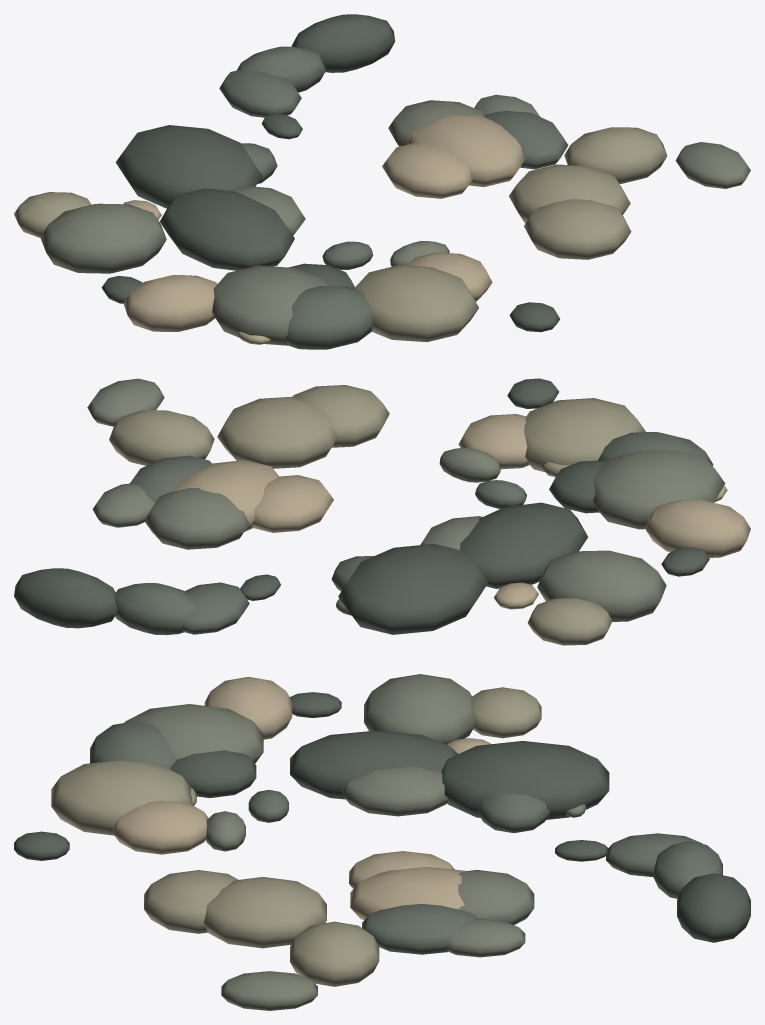
Rendered from gravel.meshopt.glb.
3 renders of one model, top to bottom at view 1: azimuth 30°, elevation 25°; view 2: azimuth 150°, elevation 25°; view 3: azimuth 270°, elevation 25°, orthographic. The views are drawn at different scales.
Parts seen in each view (by area): view 1: gravel; view 2: gravel; view 3: gravel.
Boxes of the visible parts, bbox=[...] form: gravel: bbox=[14, 14, 750, 349]; gravel: bbox=[14, 378, 750, 645]; gravel: bbox=[14, 674, 750, 1010].
Bounding box in the file's own units: 1.79 × 0.1437 × 1.76.
